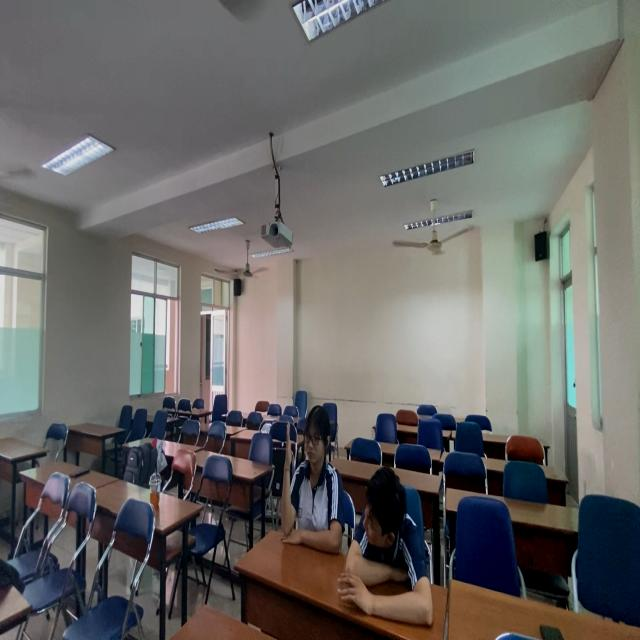raise_hand: (274, 395, 334, 546)
sleep: (342, 457, 443, 613)
